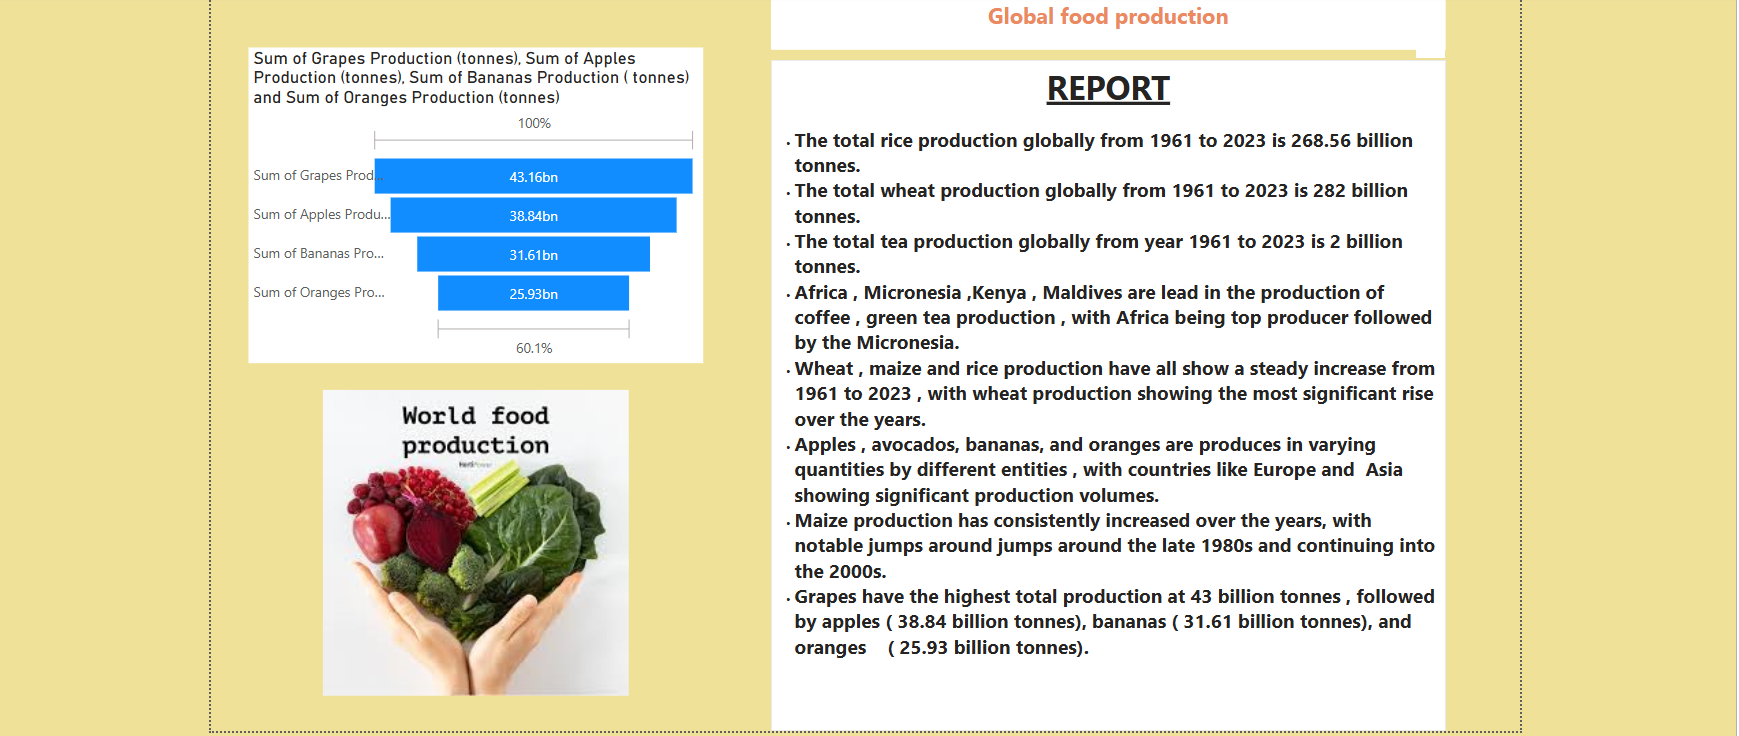

The page's visual inventory and layout, read from the dashboard file:
{"tool":"powerbi","page":{"name":"Page 2","canvas":[1280,720],"ordinal":1},"visuals":[{"type":"funnel","fields":{"Y":["Sum(world food production.Grapes  Production (tonnes))","Sum(world food production.Apples Production (tonnes))","Sum(world food production.Bananas  Production ( tonnes))","Sum(world food production.Oranges  Production (tonnes))"]},"box":[37,50.8,444.6,308.7],"z":0},{"type":"image","box":[37,382,445,309],"z":1},{"type":"textbox","box":[547.5,63.1,660,657.3],"z":2},{"type":"textbox","box":[547.5,0,660,53.5],"z":3}]}

Visuals, with their boxes on the page's 1280x720 design canvas (x1, y1, x2, y2). These are canvas units, not pixel positions in the 1739x736 screenshot, which may show the page scaled, cropped or inside an application window:
funnel - Sum(world food production.Grapes  Production (tonnes)) x Sum(world food production.Apples Production (tonnes)): 37, 51, 482, 360
image: 37, 382, 482, 691
textbox: 548, 63, 1208, 720
textbox: 548, 0, 1208, 54
